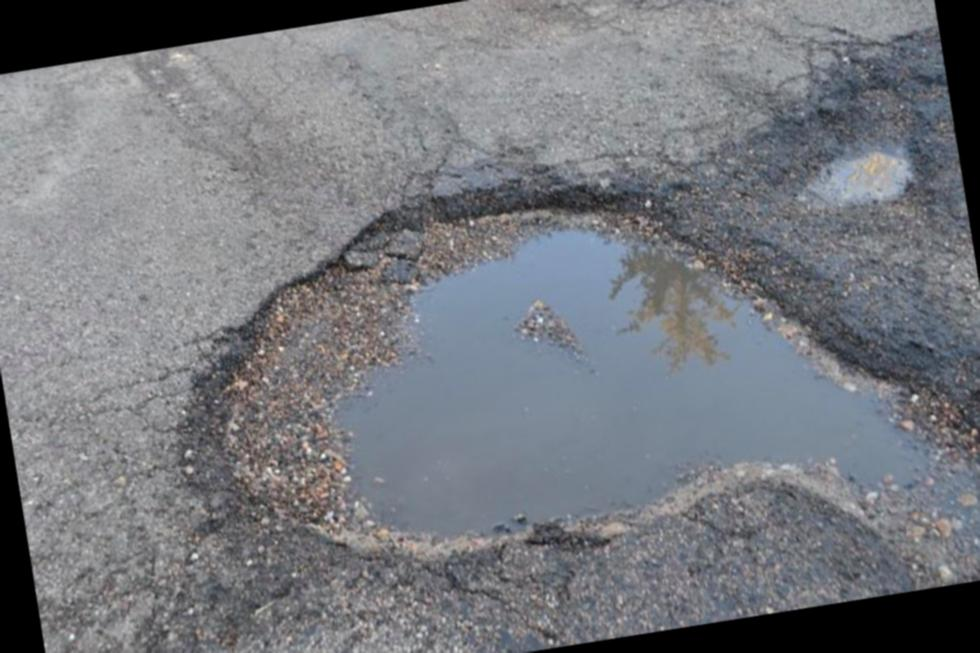pothole: (155, 71, 980, 653)
